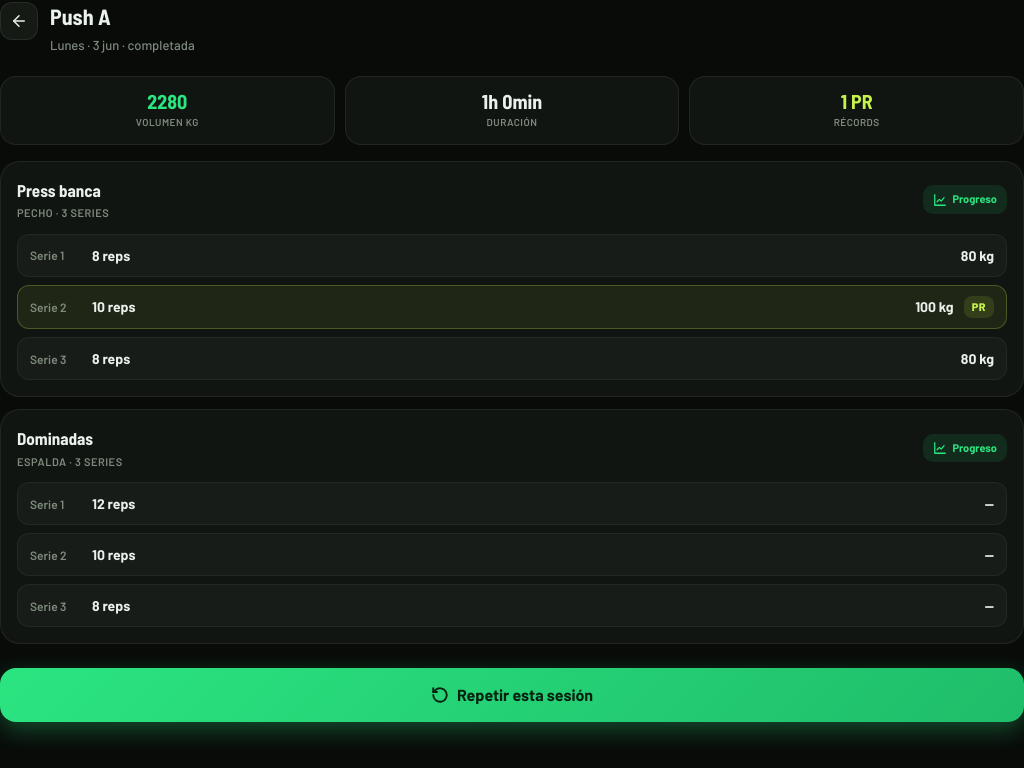
Test: SessionDetailPage — progress chart sheet › closes the progress sheet when the close button is clicked
Expected: the text "Press banca" is shown, [17,178,109,203]
Click the button "Press banca Pecho · 3 series Progreso".
click(59, 190)  # box [17,178,1007,222]
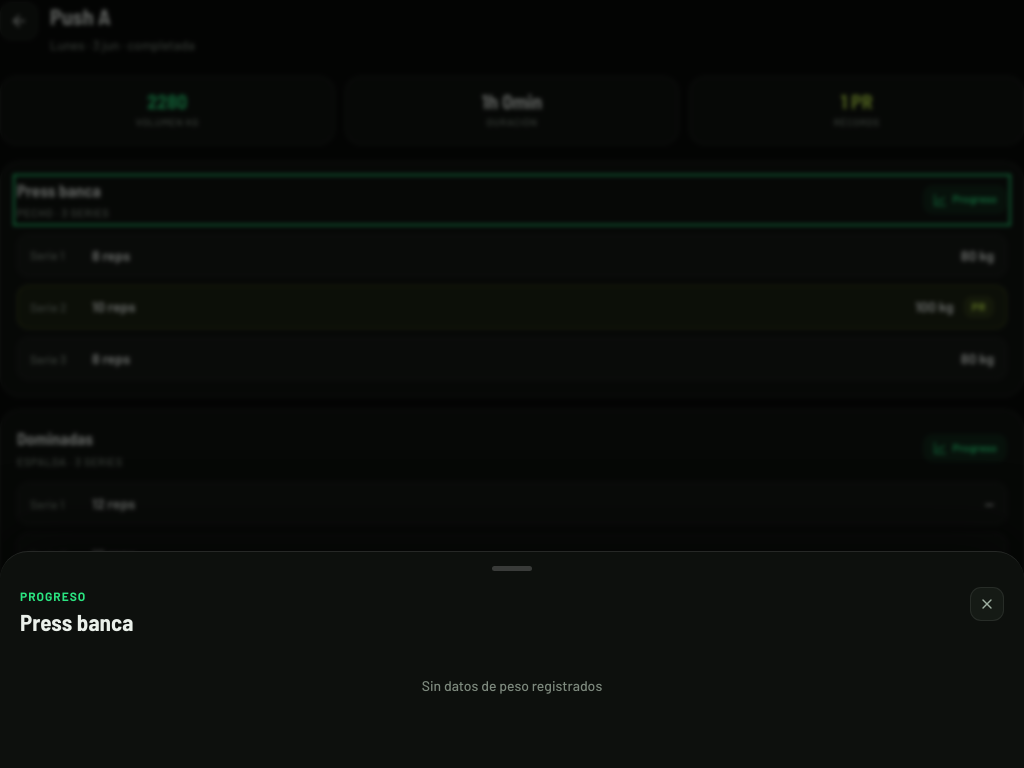
// Close button inside the sheet
Click the button named "Cerrar".
click(987, 604)  # box [970,586,1004,620]
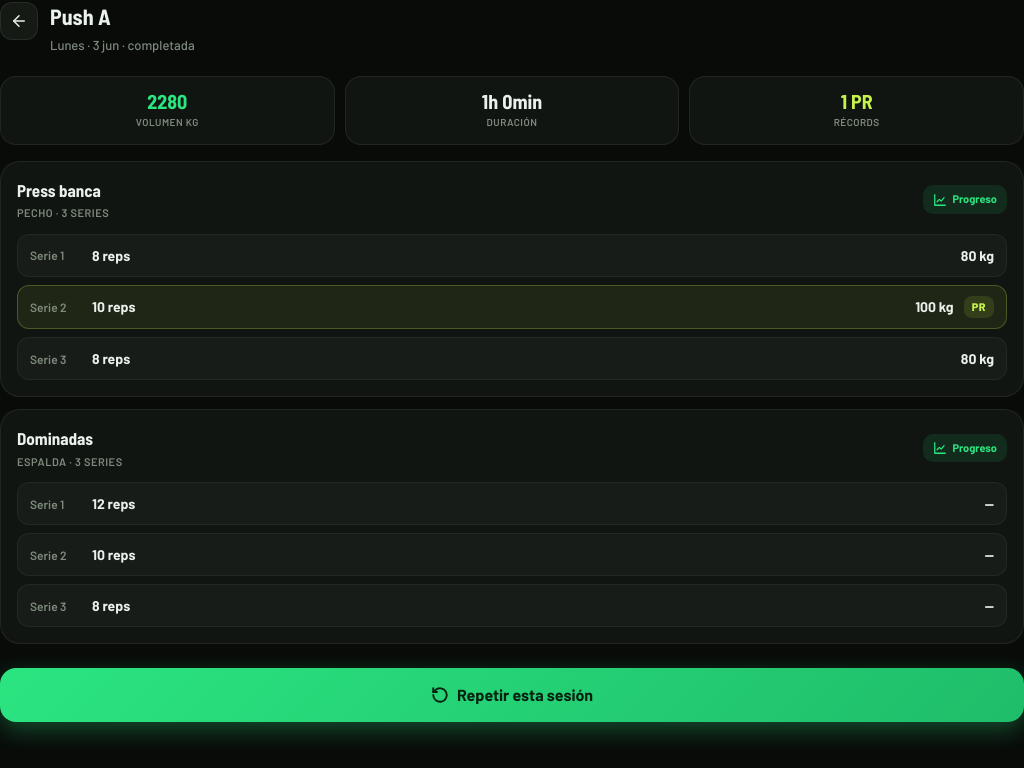
Result: the button "Cerrar" is gone
